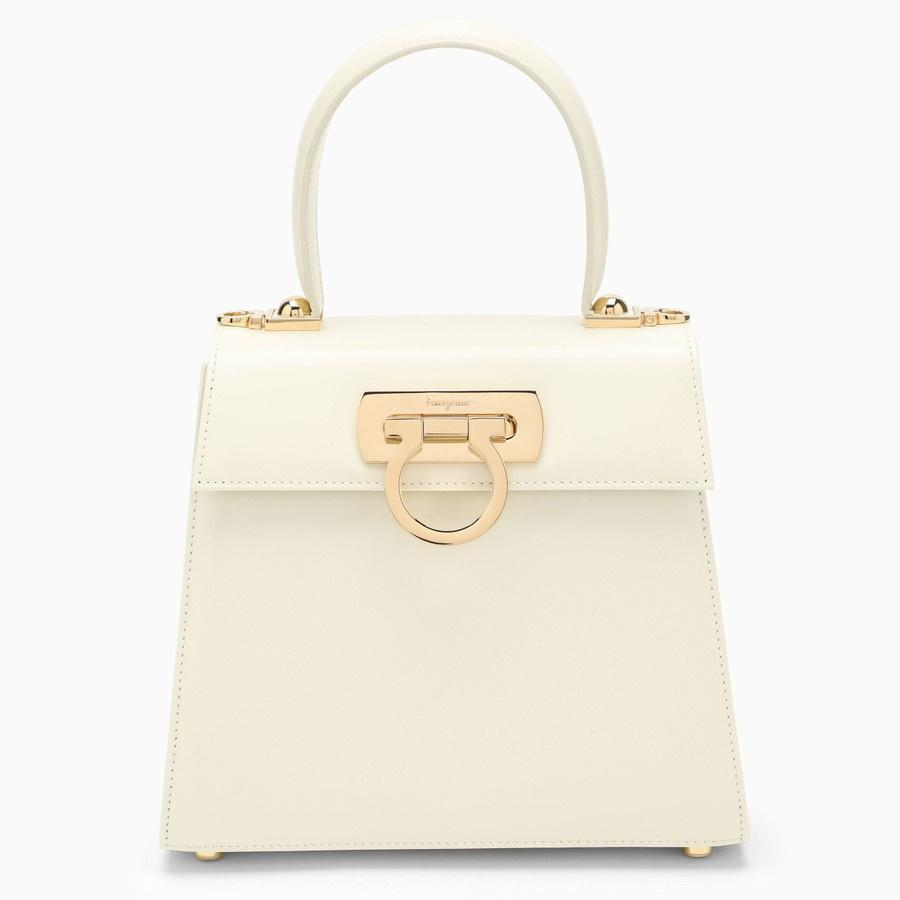FERRAGAMO: (343, 386, 563, 556)
